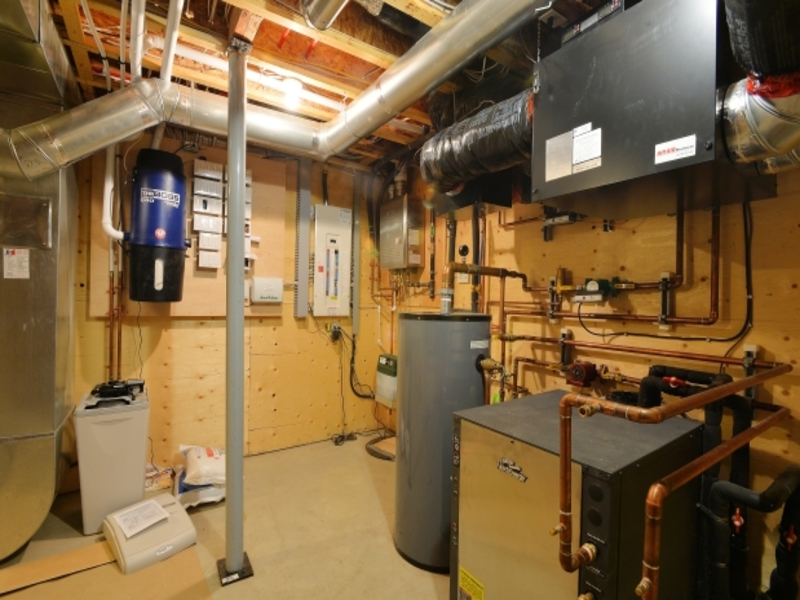valve: (557, 279, 587, 296)
